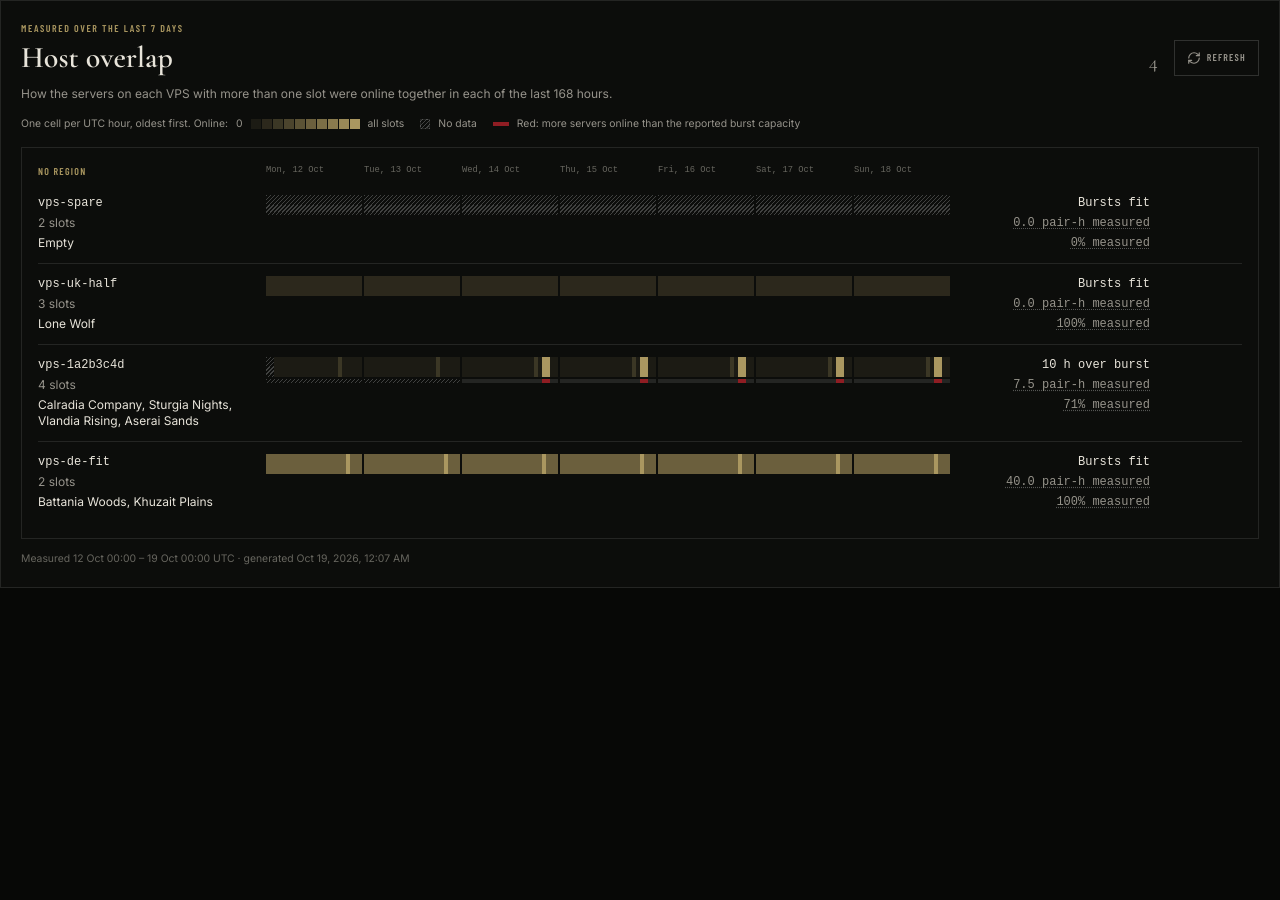
it: keeps what it showed when a refresh fails, and rejects a malformed read
The image size is (1280, 900).
Click the button "Refresh" at [1216, 58], box [1174,40,1259,76]
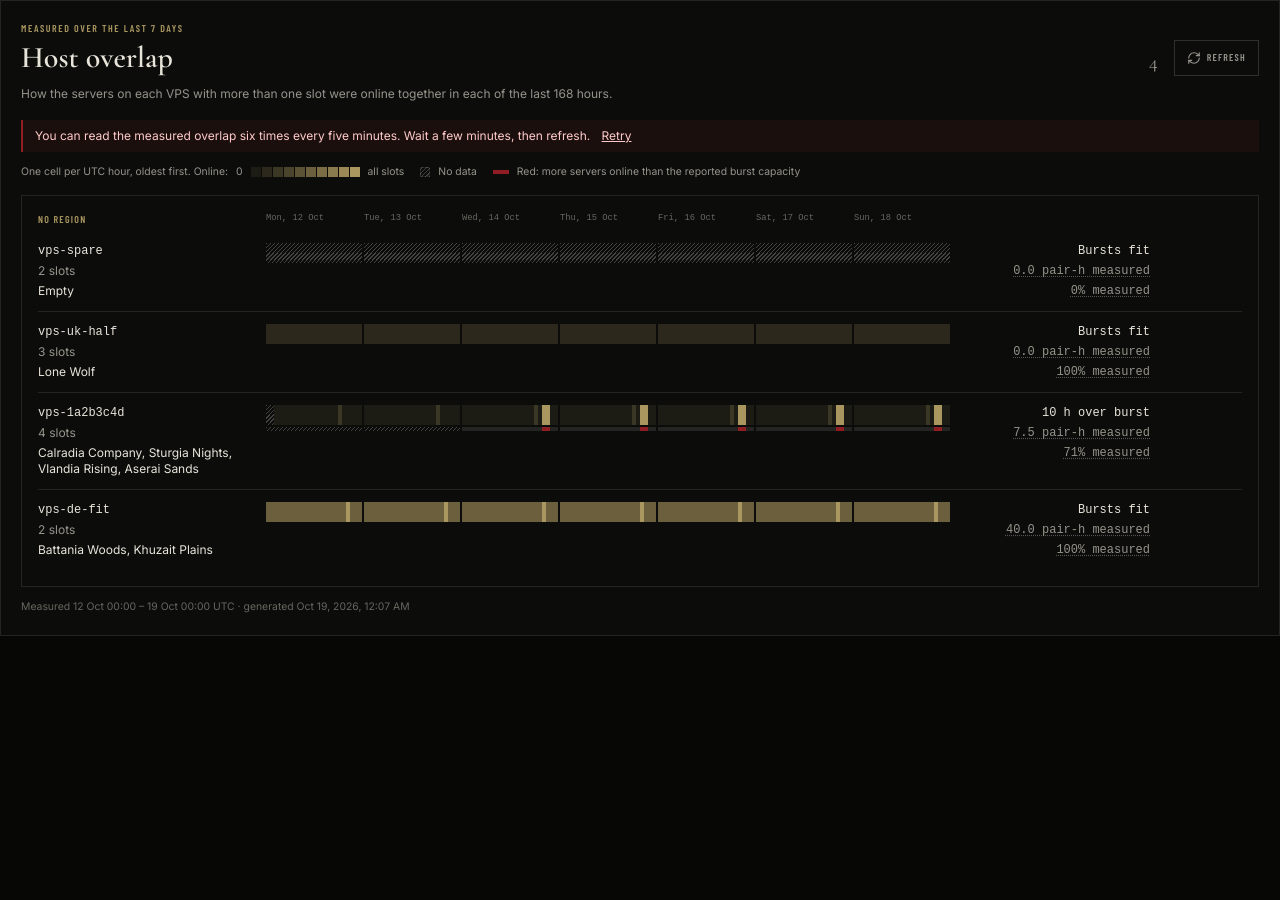
Expected: the list item that starts with "vps-1a2b3c4d" is shown, [38,393,1242,490]
Expected: the message shows "six times every five minutes", [35,128,590,143]
Click the button "Retry" at [617, 136], box [602,128,632,144]
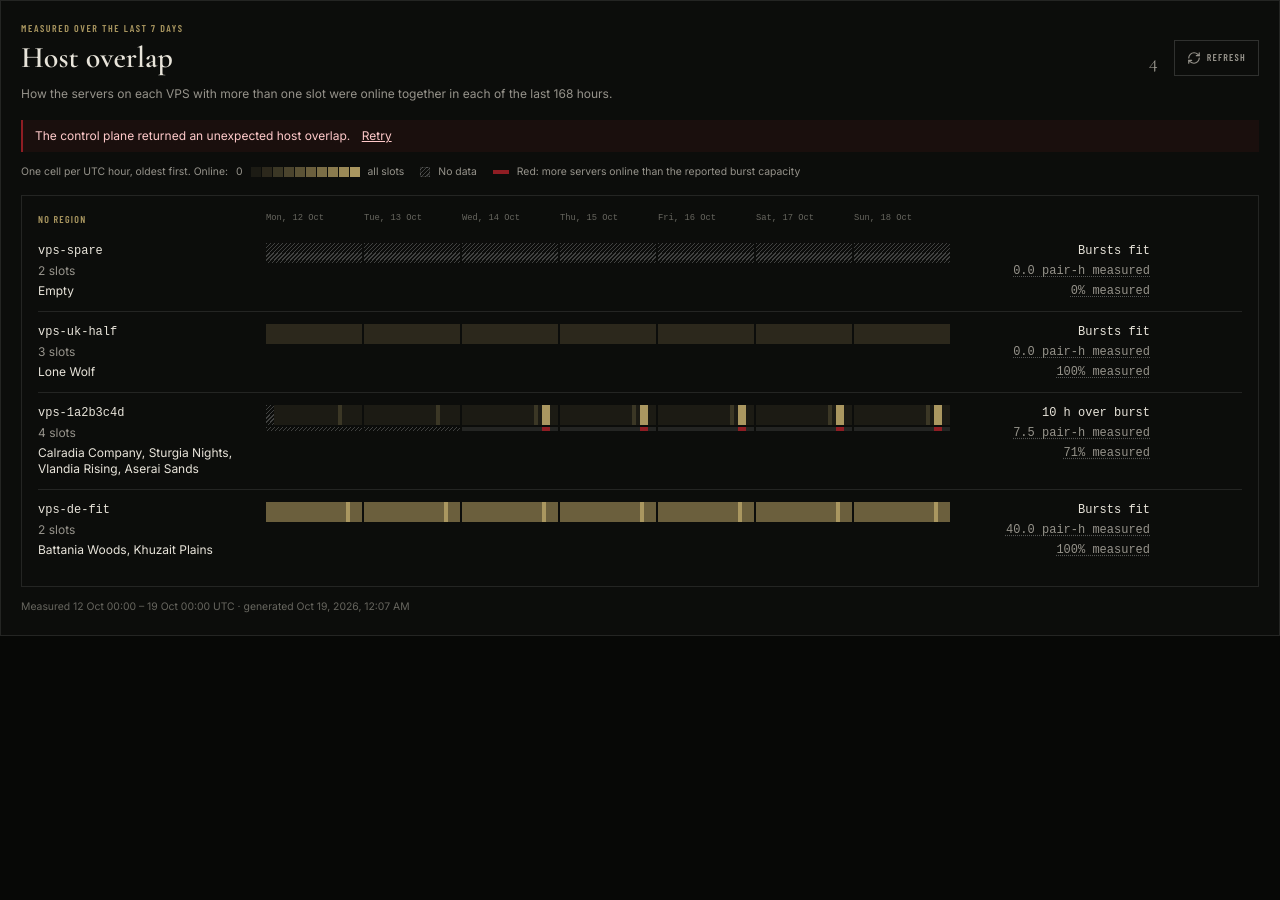
Expected: the message "The control plane returned an unexpected host overlap. Retry" is shown, [21,120,1259,152]
